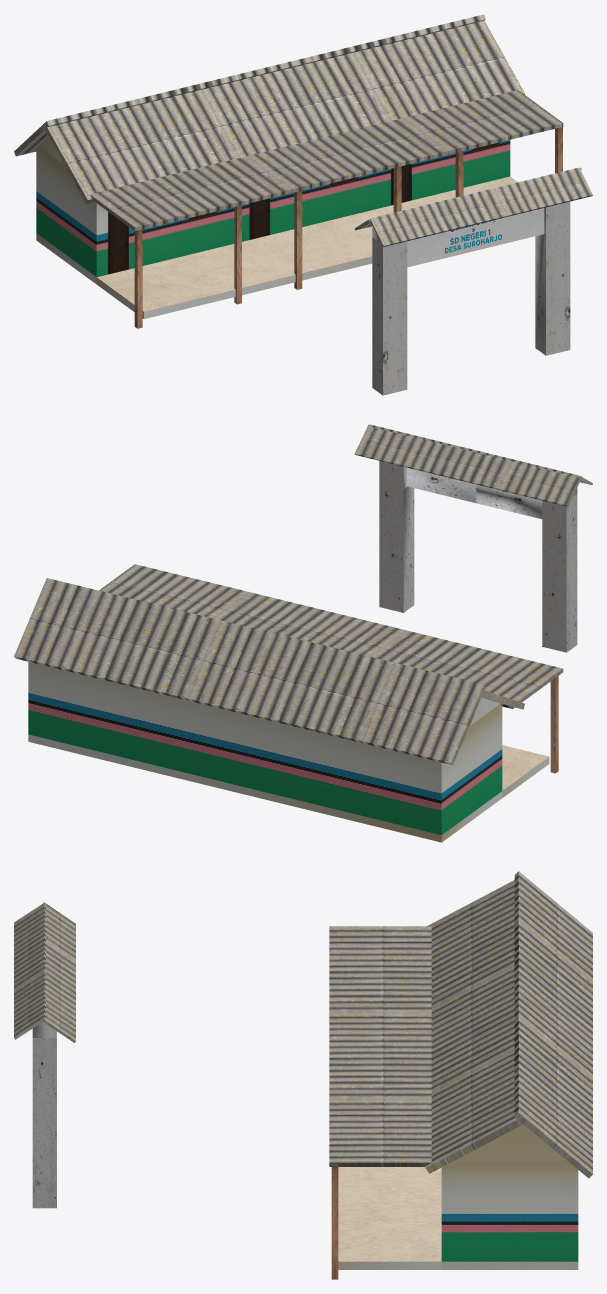
Rendered from Sekolah.fbx.
The picture shows the model from 3 angles, top to bottom: view 1: azimuth 30°, elevation 25°; view 2: azimuth 150°, elevation 25°; view 3: azimuth 270°, elevation 25°; orthographic projection. The views are drawn at different scales.
Visible parts, largest first — view 1: atap, Cube, atap.001, Cube.001, atap.004, Cube.002, Cube.007, atap.002; view 2: Cube, atap.002, atap.001, Cube.001, atap.003, Cube.007, atap.004; view 3: Cube, atap.001, atap, atap.002, Cube.001, atap.004, atap.003, Cube.007.
Boxes of the visible parts, x1,y1,x2,y2 form: atap: [43, 20, 524, 203]; Cube: [36, 137, 517, 318]; atap.001: [90, 90, 563, 231]; Cube.001: [372, 201, 570, 395]; atap.004: [370, 167, 592, 246]; Cube.002: [407, 208, 544, 267]; Cube.007: [134, 127, 562, 328]; atap.002: [14, 14, 485, 156]; Cube: [28, 661, 549, 842]; atap.002: [14, 578, 485, 765]; atap.001: [99, 564, 563, 708]; Cube.001: [379, 461, 577, 652]; atap.003: [354, 424, 581, 506]; Cube.007: [550, 676, 558, 773]; atap.004: [369, 424, 592, 484]; Cube: [338, 1124, 578, 1269]; atap.001: [329, 926, 431, 1166]; atap: [425, 880, 525, 1173]; atap.002: [514, 871, 592, 1178]; Cube.001: [32, 1022, 56, 1208]; atap.004: [14, 902, 45, 1039]; atap.003: [42, 902, 75, 1042]; Cube.007: [331, 1164, 338, 1279].
Bounding box in the file's own units: 2155 × 835 × 2183.
